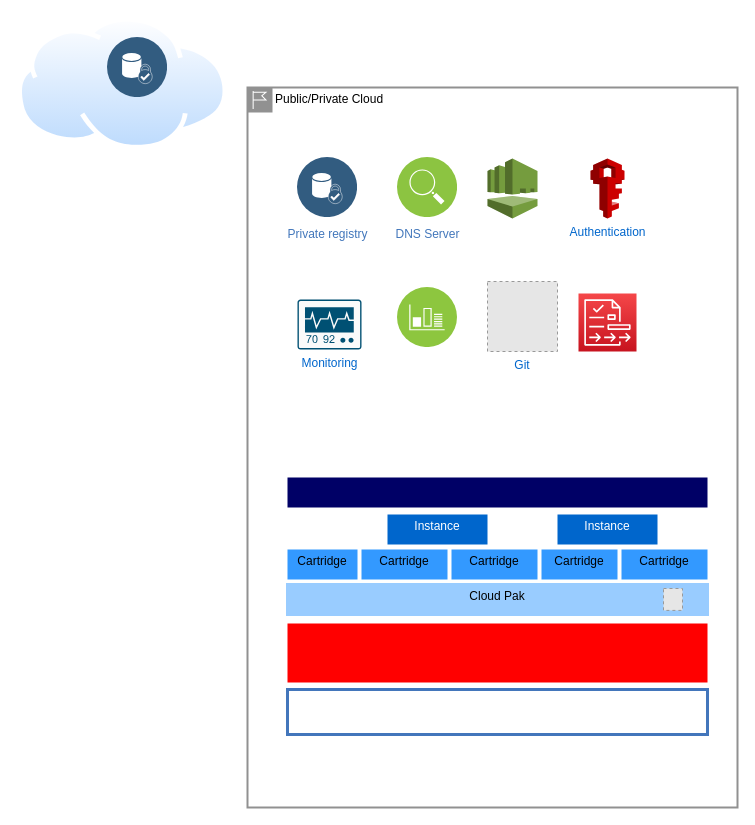
The diagram is 755 pixels wide and 825 high, and some of its shapes have lost their labels. Grey dashed boxes stand in for pictures. The shapes that lost their labels are listed below. From the top down, each one's centre as x and y in pixels, then its label:
the point at 137,67: IBM Entitled Registry
the point at 512,188: LDAP
the point at 427,317: Logging
the point at 607,322: Auditing
the point at 497,492: Assets
the point at 497,652: OpenShift
the point at 497,712: Infrastructure (compute, storage, network)
